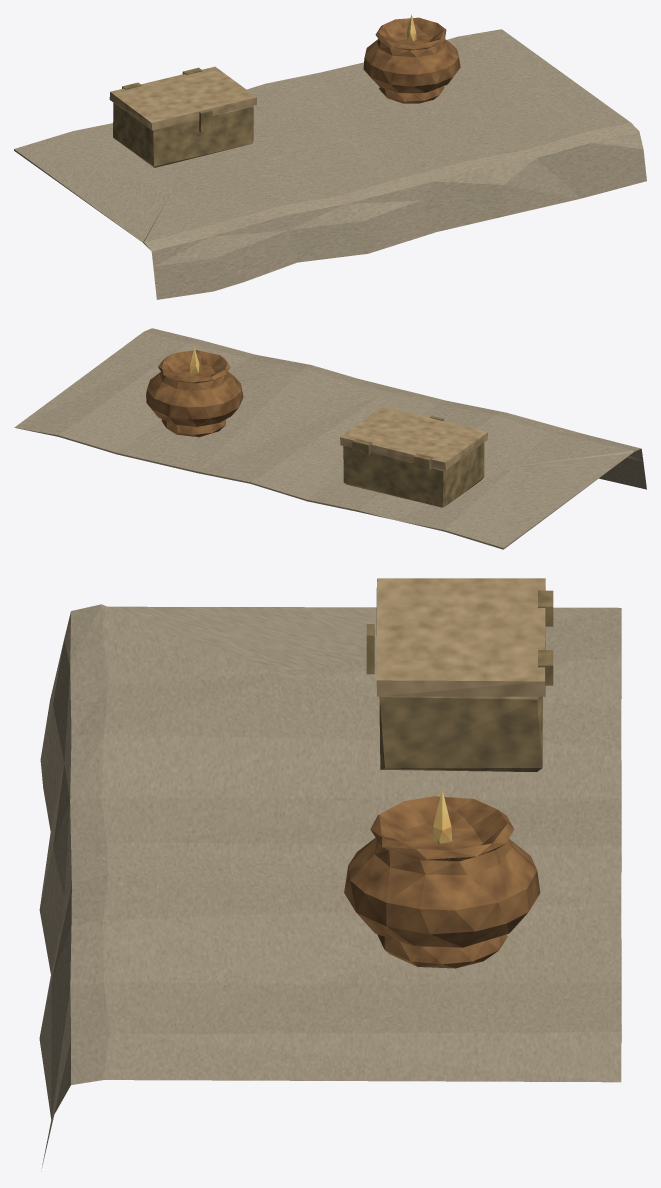
File: BenchDressing_LOD2.fbx
3 views of the same model, one above another, from view 1: azimuth 30°, elevation 25°; view 2: azimuth 150°, elevation 25°; view 3: azimuth 270°, elevation 25° (orthographic). The views are drawn at different scales.
Parts seen in each view (by area): view 1: BenchDressing.001; view 2: BenchDressing.001; view 3: BenchDressing.001.
Boxes of the visible parts, <box> form: BenchDressing.001: <box>14,14,646,299</box>; BenchDressing.001: <box>14,328,646,549</box>; BenchDressing.001: <box>39,578,621,1168</box>.
Bounding box in the file's own units: 1.32 × 0.3391 × 0.6819.
Materials: 1 (1 with a texture image).
